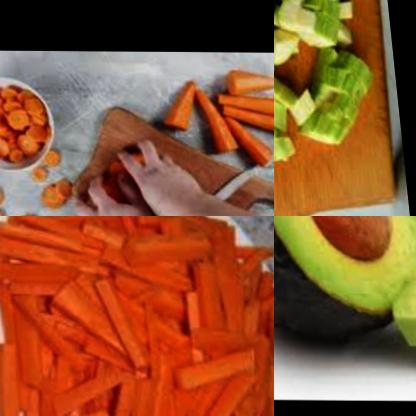avocado: (274, 216, 416, 341)
carrot: (0, 216, 274, 416), (0, 77, 50, 166), (185, 84, 235, 155), (221, 115, 274, 168), (150, 76, 200, 131), (212, 99, 274, 137), (210, 90, 274, 122), (28, 166, 74, 210), (219, 67, 274, 98), (19, 142, 64, 174), (0, 180, 11, 206), (5, 210, 37, 216)
vegetable marrow: (274, 0, 383, 162)
